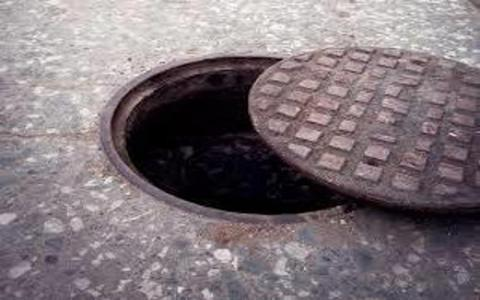open manhole: (100, 51, 372, 228)
